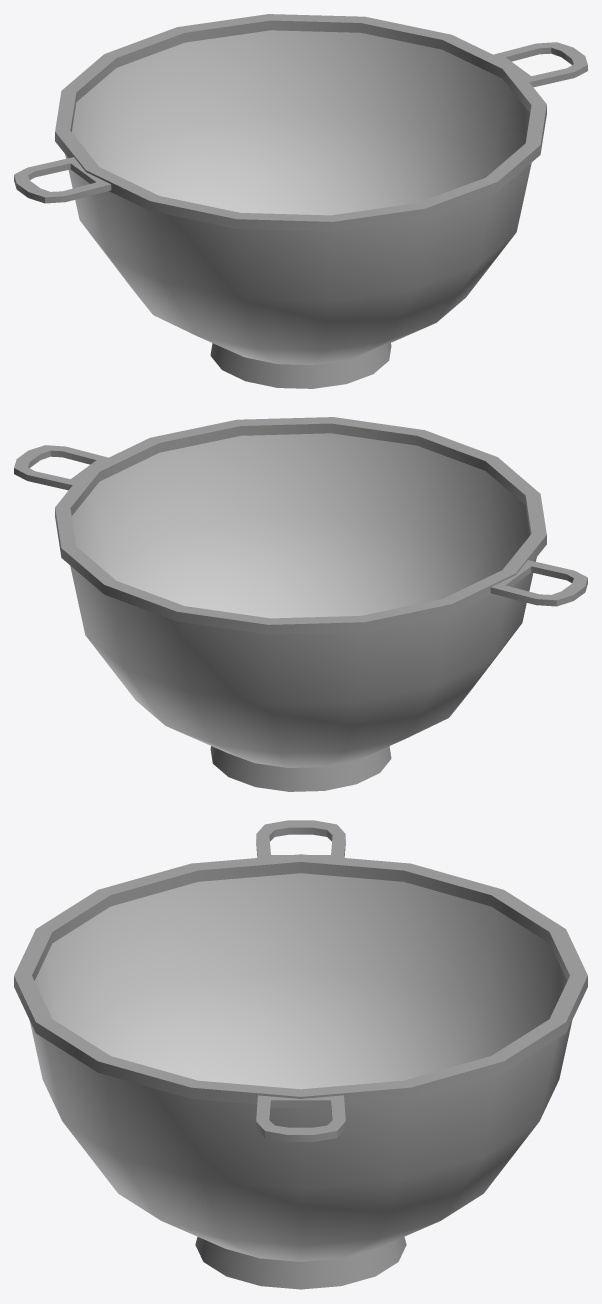
Rendered from Colander_01.fbx.
The picture shows the model from 3 angles, top to bottom: view 1: azimuth 30°, elevation 25°; view 2: azimuth 150°, elevation 25°; view 3: azimuth 270°, elevation 25°; orthographic projection. The views are drawn at different scales.
Parts seen in each view (by area): view 1: Colander_01; view 2: Colander_01; view 3: Colander_01.
Boxes of the visible parts, <box> form: Colander_01: <box>14,14,587,388</box>; Colander_01: <box>14,417,587,791</box>; Colander_01: <box>14,820,587,1289</box>.
Bounding box in the file's own units: 0.3618 × 0.1445 × 0.2791.
